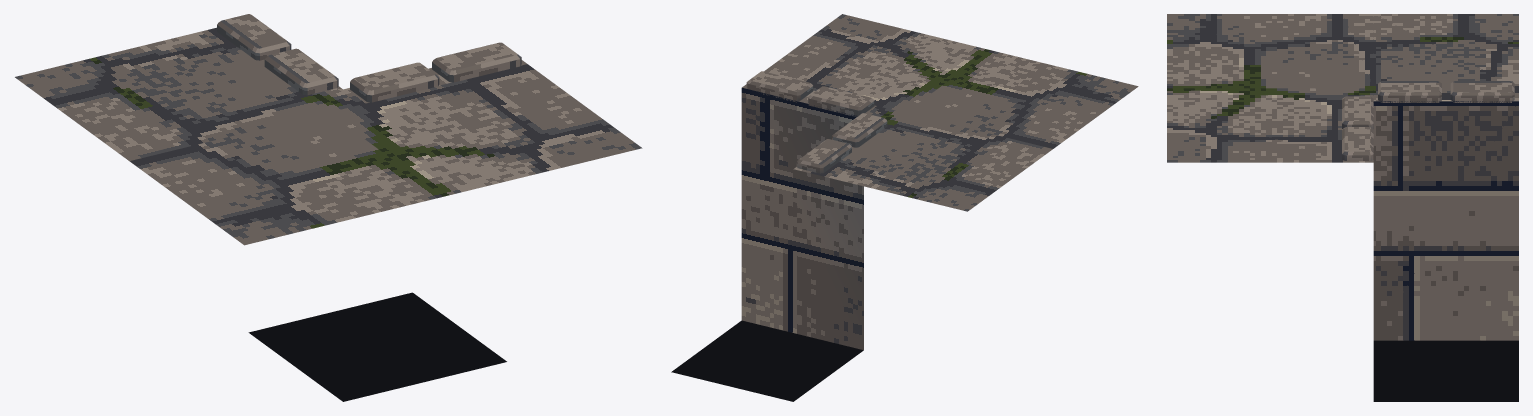
Rendered from dgn.pit__corner.glb.
The picture shows the model from 3 angles, left to right: view 1: azimuth 30°, elevation 25°; view 2: azimuth 150°, elevation 25°; view 3: azimuth 270°, elevation 25°; orthographic projection. The views are drawn at different scales.
Parts seen in each view (by area): view 1: kit_shell_floor, kit_card_void, kit_rim; view 2: kit_shell_floor, kit_shell_shaft, kit_card_void, kit_rim; view 3: kit_shell_floor, kit_shell_shaft, kit_card_void, kit_rim.
Boxes of the visible parts, box(x1,y1,x2,y2) form: kit_shell_floor: box(15, 27, 642, 245); kit_card_void: box(248, 292, 506, 401); kit_rim: box(217, 14, 521, 102); kit_shell_floor: box(742, 14, 1138, 211); kit_shell_shaft: box(741, 88, 863, 349); kit_card_void: box(671, 320, 863, 401); kit_rim: box(746, 71, 887, 173); kit_shell_floor: box(1167, 14, 1518, 162); kit_shell_shaft: box(1373, 101, 1518, 340); kit_card_void: box(1373, 340, 1518, 401); kit_rim: box(1342, 81, 1514, 160).
Bounding box in the file's own units: 4 × 3.1 × 4.
4 materials, 4 textured.
